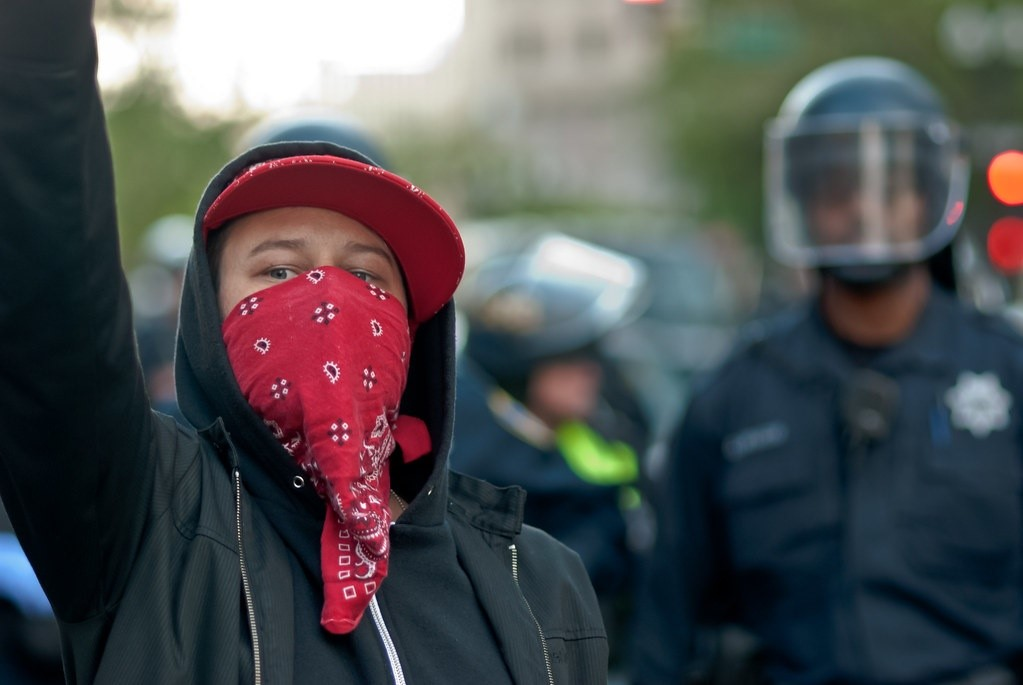face_with_mask: (199, 181, 423, 440)
